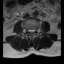CCS_stenosis: (30, 27, 32, 35)
LFS_normal: (34, 28, 37, 33)
LLS_normal: (32, 27, 34, 34)
RFS_normal: (26, 27, 28, 34)
RLS_normal: (28, 28, 30, 34)
